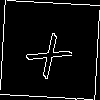X: (24, 24, 81, 80)
